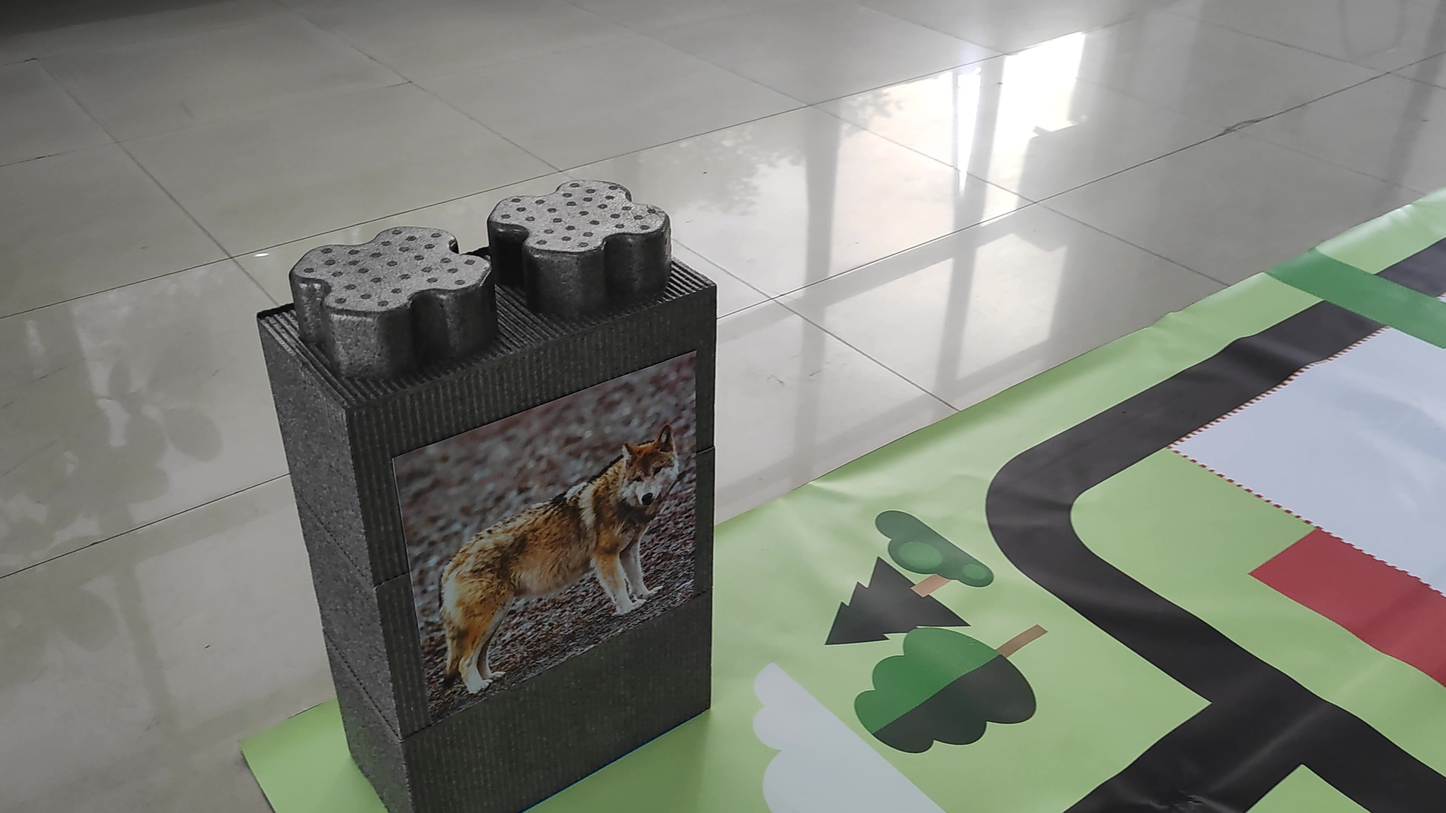wolf: (436, 415, 688, 698)
